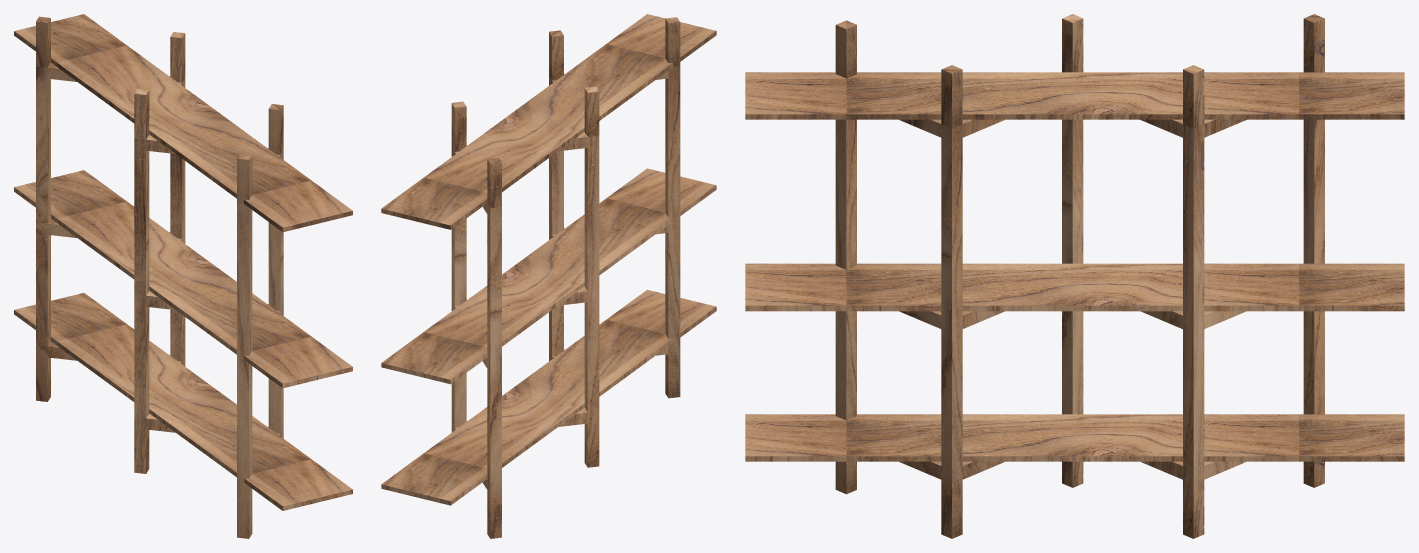
Rendered from bookcase3d-2.glb.
3 views of the same model, side by side, from view 1: azimuth 30°, elevation 25°; view 2: azimuth 150°, elevation 25°; view 3: azimuth 270°, elevation 25° (orthographic). The views are drawn at different scales.
Parts seen in each view (by area): view 1: skp4B7F; view 2: skp4B7F; view 3: skp4B7F.
Boxes of the visible parts, x1,y1,x2,y2 form: skp4B7F: (14, 14, 352, 538); skp4B7F: (381, 14, 716, 538); skp4B7F: (745, 14, 1404, 538).
Size of the model in its own units: 0.4707 by 1.7 by 2.19.
1 material, 1 textured.
